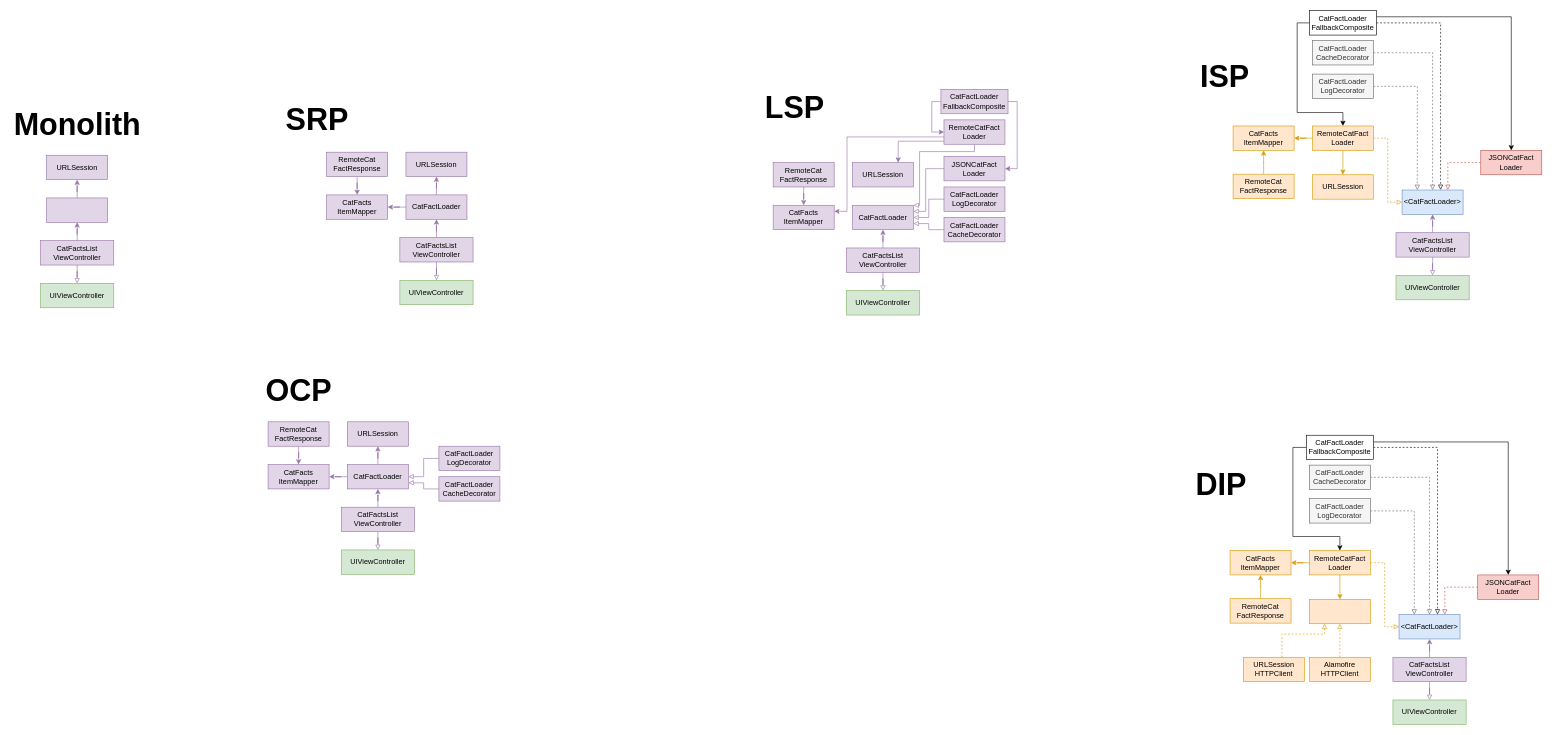
This 1552x735 diagram has some shape labels left out. The centre of each missing label's shape, as x and y in pixels:
"<HTTPClient>" belongs at pixel 1339 611.
"APIService" belongs at pixel 77 209.
